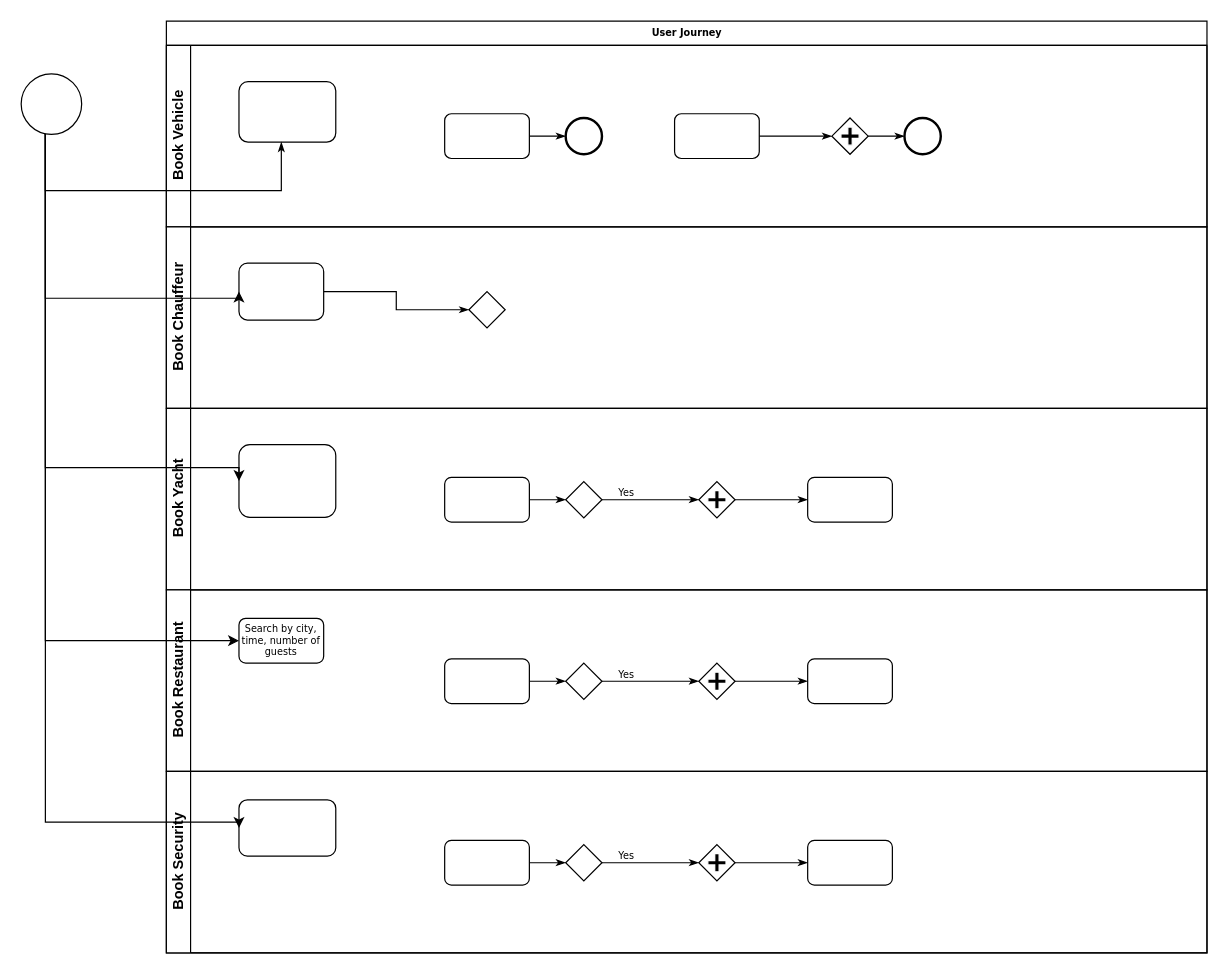
The diagram is 1228 pixels wide and 974 high, and some of its shapes have lost their labels. Here are the shapes that lost their labels. From the top down, the centre of each, then its label:
the point at 287,111: Search by from, to, time, date
the point at 281,291: Search by destination, time, date, and number of helpers
the point at 287,480: Search by destination, month, # of guest, yacht type, # of cabins
the point at 287,827: Search by destination, time, date, and number of security guards
